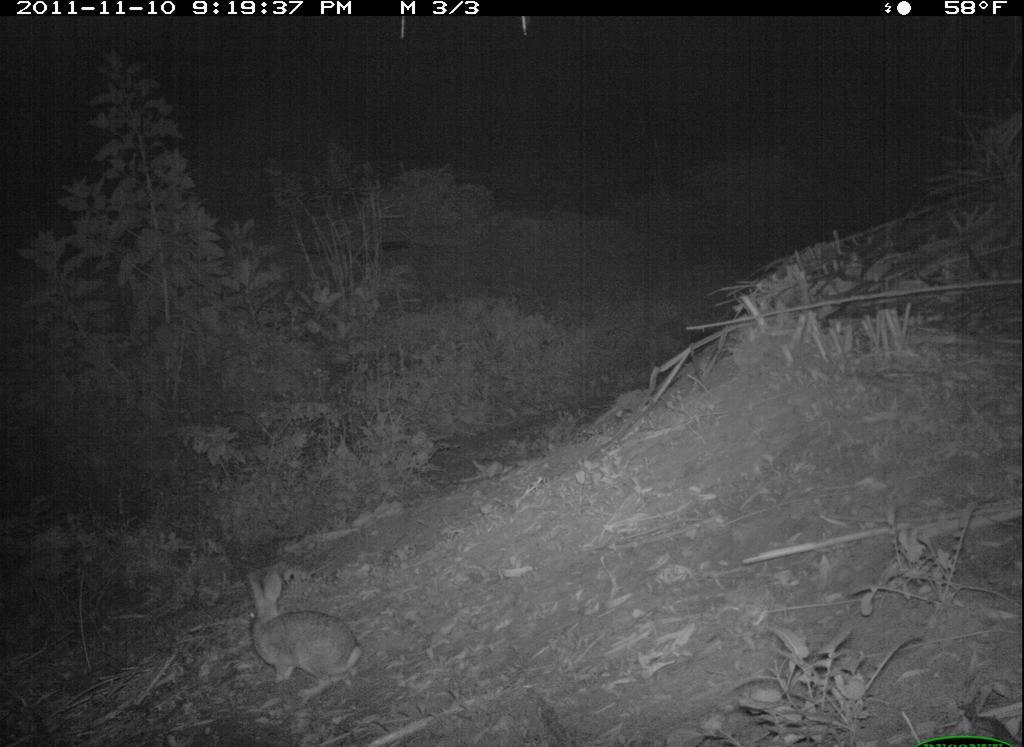rabbit: (233, 569, 373, 701)
